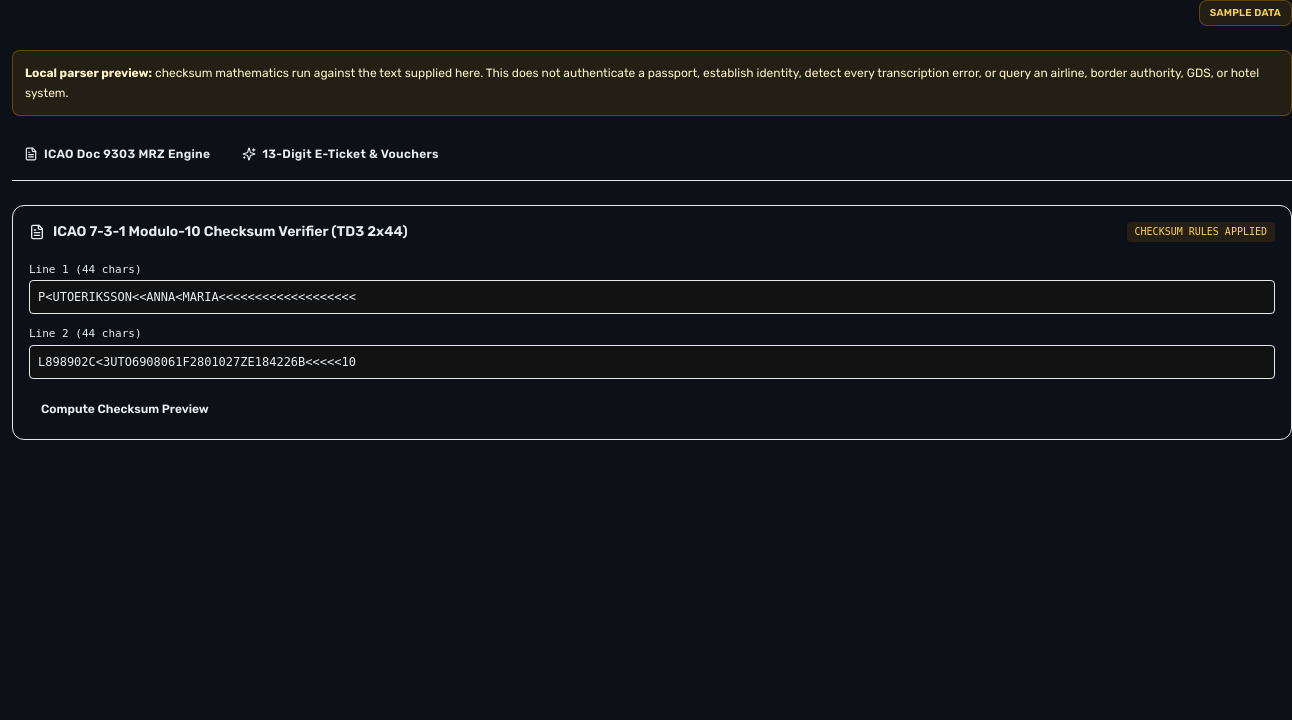
Test: DocumentMRZPanel truth boundary › labels checksum output as format-only and never as identity verification
The image size is (1292, 720).
Expected: the text with test id "simulated-badge" reads "Sample data", [1210,7,1281,19]
Expected: the element with test id "mrz-preview-notice" shows "does not authenticate a passport", [25,66,1259,100]
Click the button "Compute Checksum Preview". click: click(125, 409)
box: [29,395,221,423]
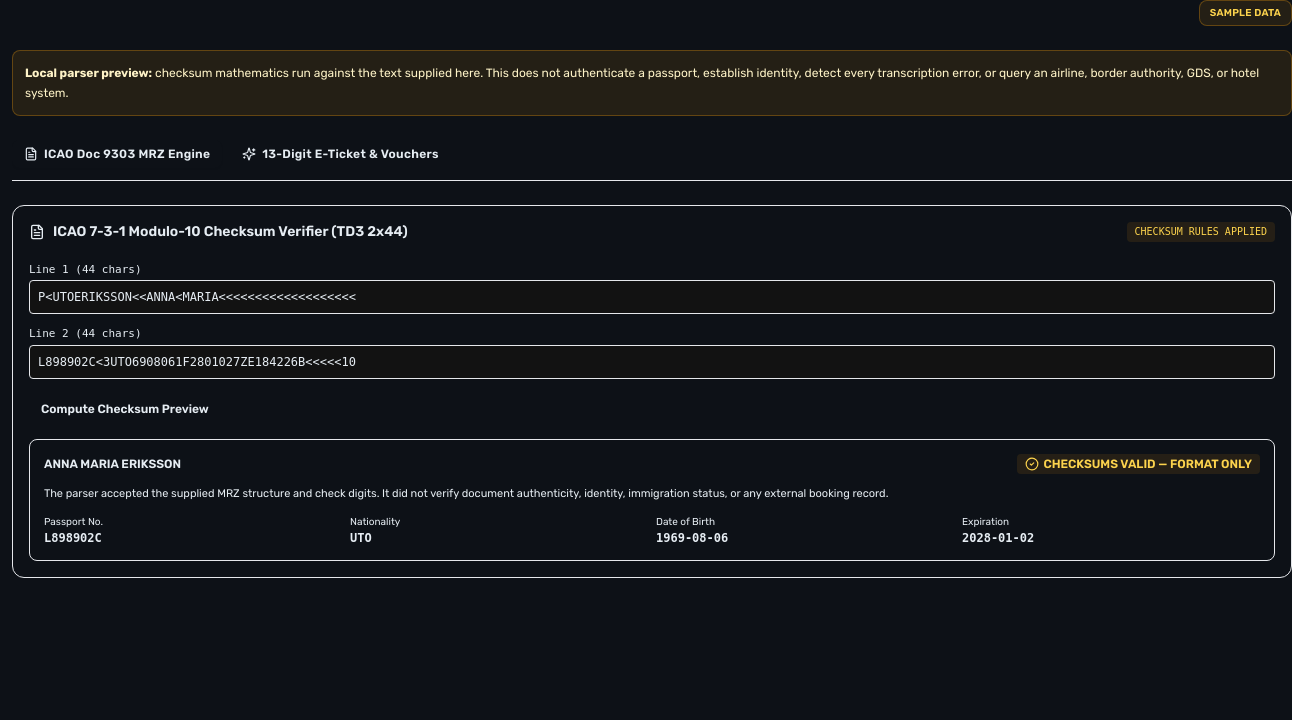
Result: the text "CHECKSUMS VALID — FORMAT ONLY" is shown at [1017,454,1260,474]
Result: the text "did not verify document authenticity" is shown at [44,487,888,500]
